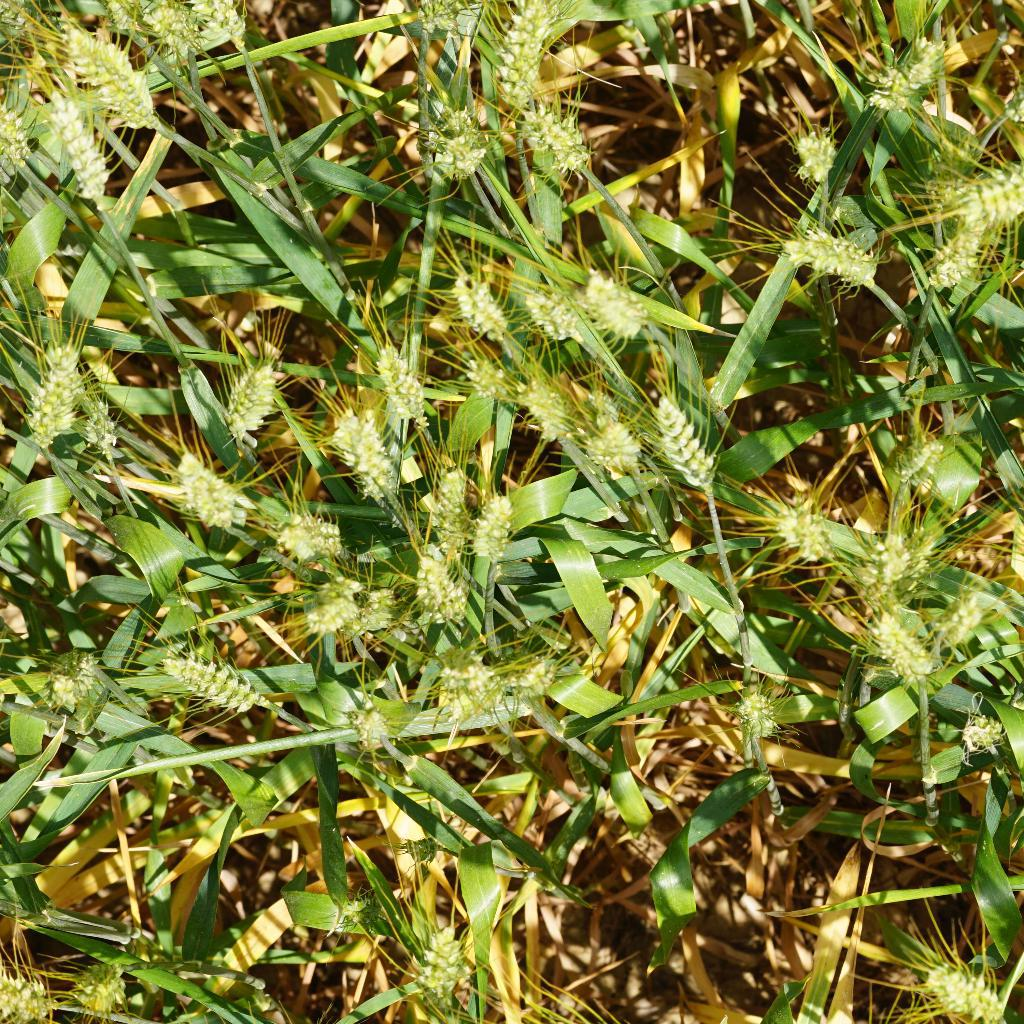0-0: (30, 70, 118, 210), (59, 25, 159, 146), (11, 322, 86, 452), (646, 387, 731, 501), (154, 645, 275, 720), (396, 85, 490, 180), (845, 602, 940, 694), (318, 408, 406, 507), (553, 385, 646, 477), (849, 497, 931, 601), (495, 0, 577, 103), (209, 352, 295, 445), (776, 225, 889, 292), (402, 916, 486, 1006), (866, 34, 953, 120), (355, 326, 436, 418), (68, 376, 138, 479), (169, 441, 242, 534), (162, 0, 260, 69), (416, 452, 472, 572), (757, 497, 840, 574), (249, 508, 352, 570), (459, 496, 530, 585), (519, 277, 593, 361), (445, 262, 526, 337), (515, 359, 579, 448), (909, 225, 987, 298), (522, 103, 594, 182), (113, 0, 187, 76), (38, 639, 119, 707), (55, 959, 141, 1021), (922, 579, 993, 651), (579, 277, 653, 346), (784, 120, 849, 198), (291, 583, 384, 636), (933, 163, 1024, 217), (417, 639, 501, 692), (713, 679, 780, 744), (408, 549, 464, 620), (955, 704, 1016, 766), (0, 958, 56, 1024), (343, 699, 404, 758), (884, 430, 937, 496), (500, 651, 570, 694), (445, 669, 492, 732), (0, 105, 38, 182), (459, 351, 515, 403), (326, 886, 388, 929), (391, 832, 444, 869)
